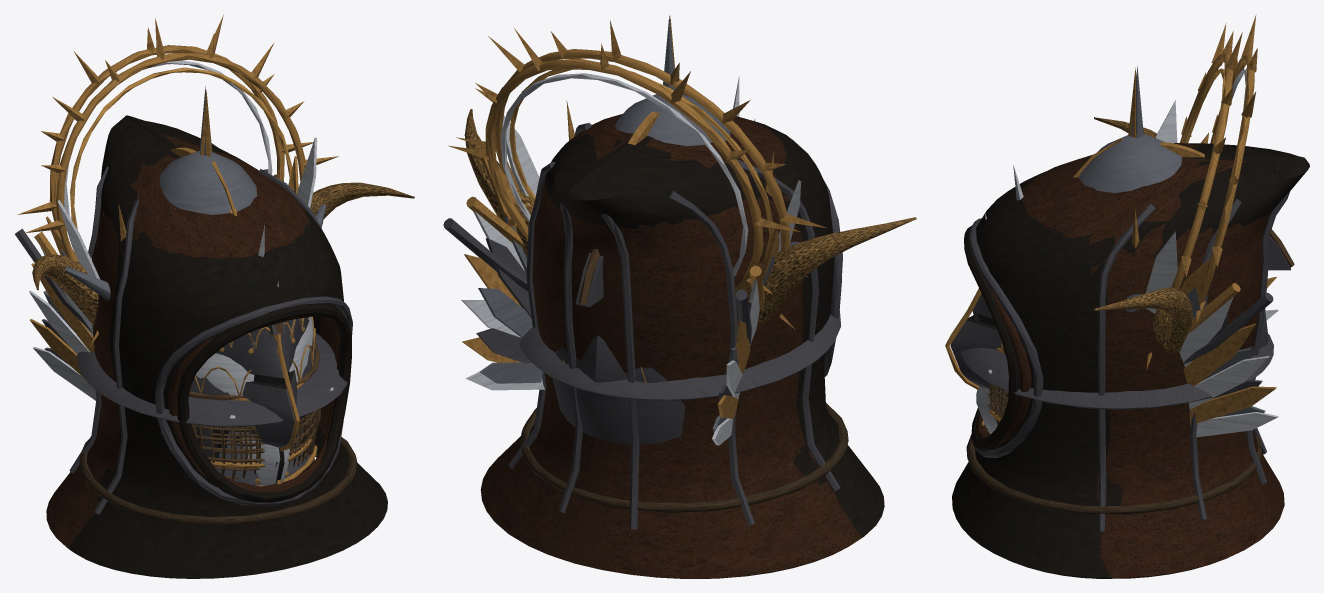
Rendered from items_helms_c.glb.
3 views of the same model, side by side, from view 1: azimuth 30°, elevation 25°; view 2: azimuth 150°, elevation 25°; view 3: azimuth 270°, elevation 25° (orthographic). The views are drawn at different scales.
Parts seen in each view (by area): view 1: helm_weald_cowl, helm_mourner_hood, helm_rite_crown, helm_grave_visor, helm_bent_brow, helm_spire_mask, helm_bone_casque, helm_ash_sallet, helm_iron_skull; view 2: helm_mourner_hood, helm_weald_cowl, helm_rite_crown, helm_bone_casque, helm_bent_brow, helm_spire_mask, helm_grave_visor; view 3: helm_mourner_hood, helm_weald_cowl, helm_rite_crown, helm_bent_brow, helm_grave_visor, helm_spire_mask, helm_bone_casque.
Boxes of the visible parts, box(x1,y1,x2,y2) form: helm_weald_cowl: box(68, 115, 387, 578); helm_mourner_hood: box(46, 133, 352, 547); helm_rite_crown: box(25, 18, 338, 485); helm_grave_visor: box(77, 322, 347, 480); helm_bent_brow: box(15, 86, 267, 365); helm_spire_mask: box(17, 15, 317, 261); helm_bone_casque: box(32, 182, 414, 325); helm_ash_sallet: box(129, 333, 313, 467); helm_iron_skull: box(65, 204, 326, 485); helm_mourner_hood: box(480, 114, 861, 578); helm_weald_cowl: box(520, 120, 884, 537); helm_rite_crown: box(456, 20, 827, 445); helm_bone_casque: box(464, 109, 916, 444); helm_bent_brow: box(443, 15, 774, 432); helm_spire_mask: box(448, 16, 800, 382); helm_grave_visor: box(519, 249, 840, 400); helm_mourner_hood: box(969, 143, 1289, 578); helm_weald_cowl: box(945, 143, 1309, 578); helm_rite_crown: box(976, 23, 1278, 437); helm_bent_brow: box(1073, 66, 1273, 417); helm_grave_visor: box(960, 229, 1294, 424); helm_spire_mask: box(1013, 14, 1257, 358); helm_bone_casque: box(1094, 117, 1268, 379).
Bounding box in the file's own units: 0.5026 × 0.5729 × 0.4011.
11 materials, 10 textured.
